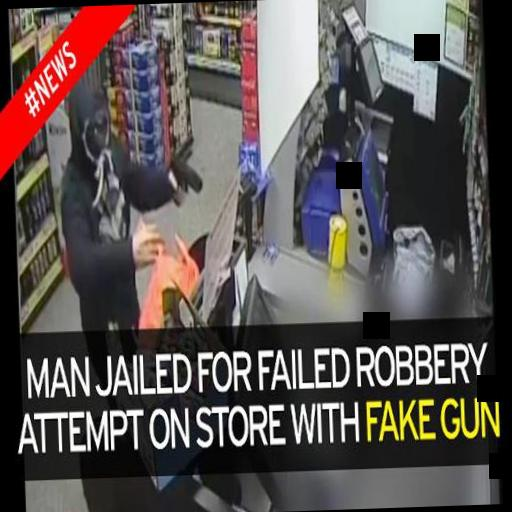Handgun: (164, 141, 201, 205)
